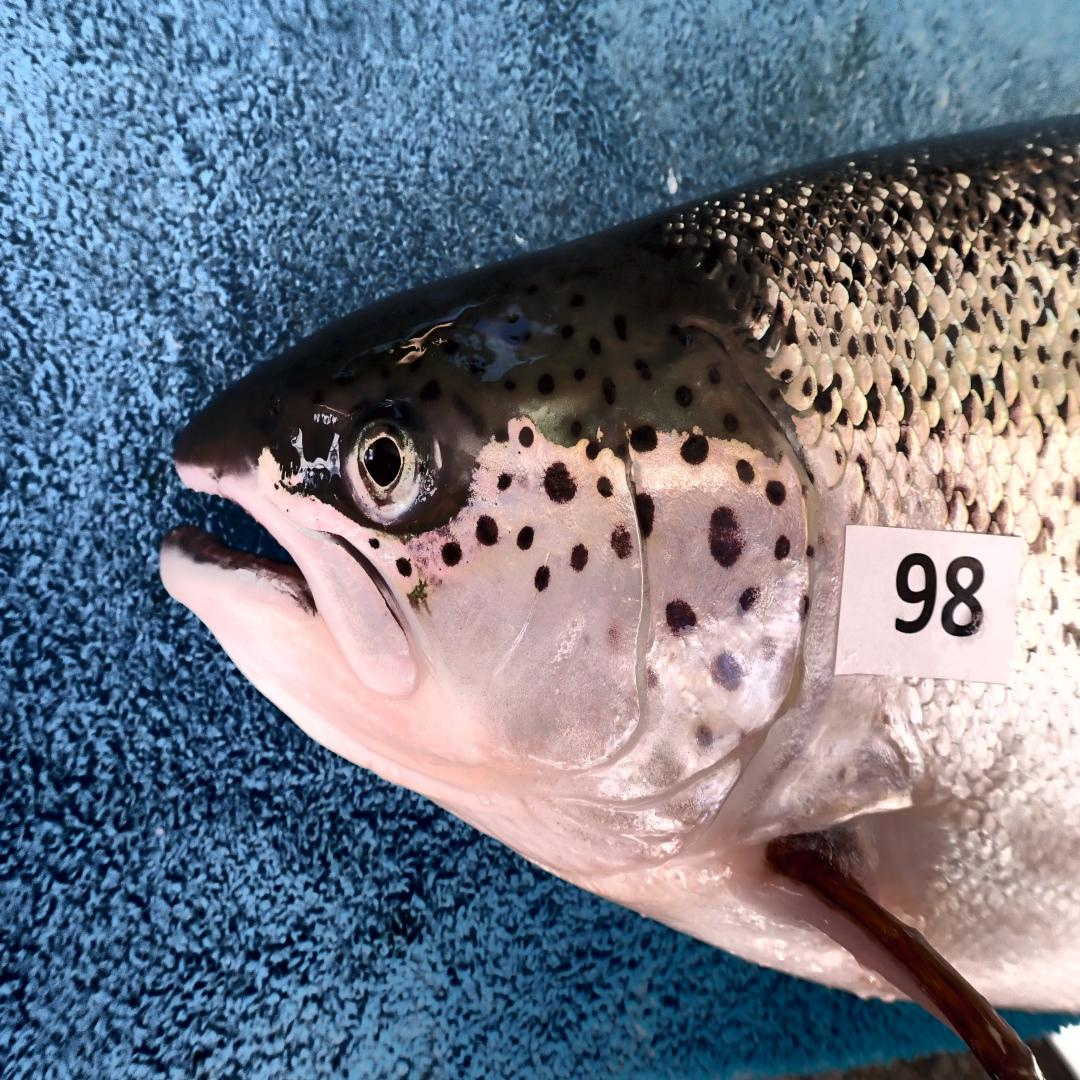spot: (709, 506, 745, 568), (544, 461, 576, 503), (711, 652, 742, 692), (667, 599, 696, 633), (635, 492, 654, 537), (681, 436, 709, 464), (610, 526, 633, 560), (631, 425, 658, 453), (477, 515, 498, 546), (738, 585, 759, 613), (694, 723, 713, 751), (759, 633, 778, 661), (766, 481, 787, 506), (736, 458, 755, 484), (572, 543, 589, 571), (441, 543, 462, 565), (534, 565, 551, 591), (774, 534, 791, 560), (517, 526, 534, 551), (597, 475, 614, 498), (645, 664, 660, 689), (396, 557, 412, 576), (498, 472, 513, 492), (519, 428, 534, 447), (586, 442, 601, 461), (802, 593, 810, 619), (369, 538, 380, 549), (806, 546, 814, 557)
